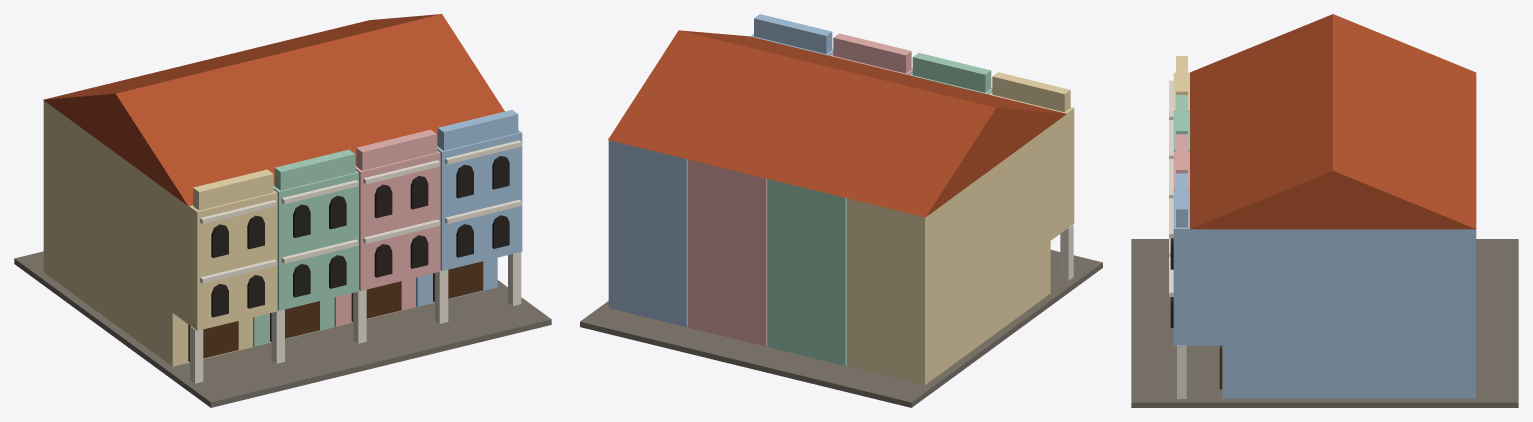
The model's file is zone_R_d3_e2.glb.
3 views of the same model, side by side, from view 1: azimuth 30°, elevation 25°; view 2: azimuth 150°, elevation 25°; view 3: azimuth 270°, elevation 25° (orthographic). The views are drawn at different scales.
Visible parts, largest first — view 1: zone_R_d3_e2; view 2: zone_R_d3_e2; view 3: zone_R_d3_e2.
Part boxes in pixels (x1,y1,x2,y2): zone_R_d3_e2: (14,14,551,407); zone_R_d3_e2: (580,14,1102,407); zone_R_d3_e2: (1131,14,1518,407).
Size of the model in its own units: 0.96 by 0.64 by 0.96.
